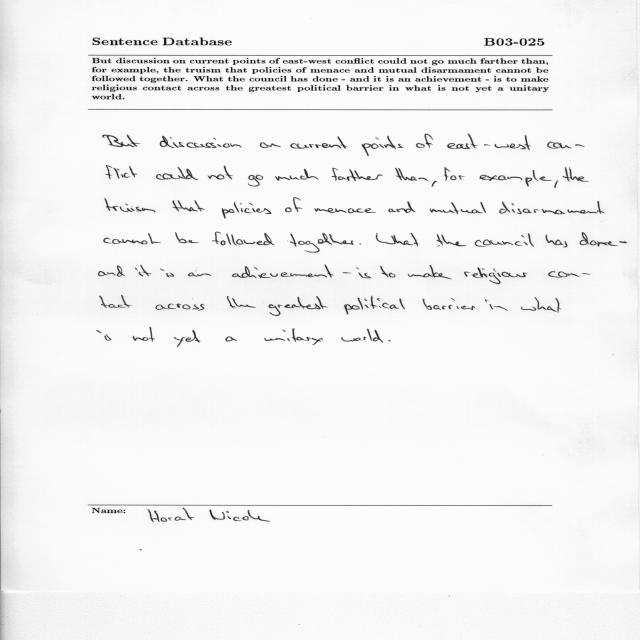word: (499, 201, 605, 214), (447, 134, 531, 150), (232, 265, 334, 278), (290, 233, 353, 253), (269, 296, 328, 316), (479, 170, 552, 186), (344, 296, 405, 314), (464, 267, 527, 284), (264, 328, 323, 345), (160, 136, 242, 148), (222, 202, 272, 219), (361, 136, 403, 156), (475, 233, 534, 247), (212, 232, 275, 245), (290, 136, 348, 149), (105, 198, 155, 213), (430, 202, 486, 215), (332, 168, 382, 181), (521, 297, 561, 313), (104, 233, 161, 244), (423, 298, 475, 310), (408, 265, 452, 279), (341, 329, 383, 343), (580, 232, 618, 247), (156, 167, 198, 180), (376, 233, 418, 246), (275, 169, 318, 181), (174, 330, 201, 347), (103, 135, 141, 147), (106, 165, 138, 179), (395, 168, 429, 181), (100, 295, 132, 308), (562, 167, 589, 182), (155, 303, 205, 311), (437, 234, 467, 247), (173, 200, 205, 212), (208, 166, 234, 180), (227, 296, 256, 308), (388, 201, 416, 213), (133, 327, 155, 342), (99, 265, 126, 277), (314, 208, 376, 213), (548, 271, 590, 278), (546, 235, 568, 248), (445, 167, 465, 181), (485, 299, 508, 311), (285, 198, 303, 213), (547, 142, 585, 149), (175, 233, 199, 244), (416, 134, 433, 148), (135, 265, 152, 276), (380, 266, 396, 277), (248, 175, 263, 186), (356, 268, 371, 279), (188, 270, 211, 277), (97, 330, 111, 341), (260, 142, 281, 148), (161, 269, 175, 278), (225, 337, 237, 342), (555, 181, 559, 189), (432, 181, 437, 187), (619, 241, 627, 243), (343, 273, 352, 274), (388, 340, 391, 342), (359, 243, 361, 245)
